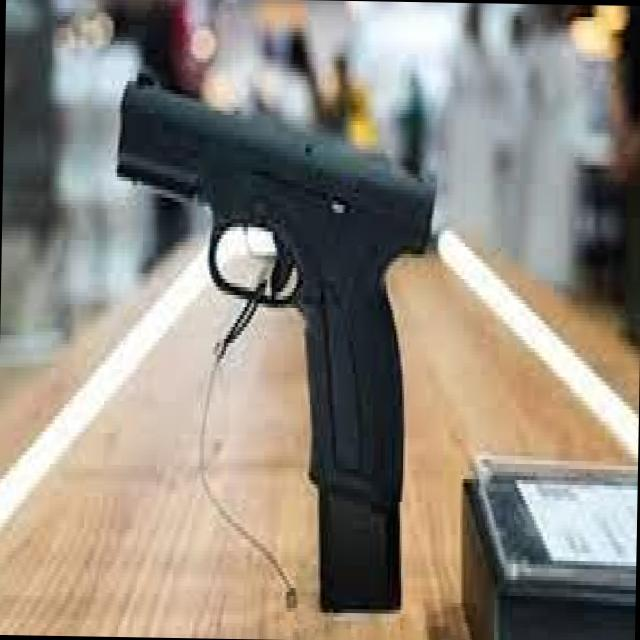Gun: (89, 54, 452, 516)
